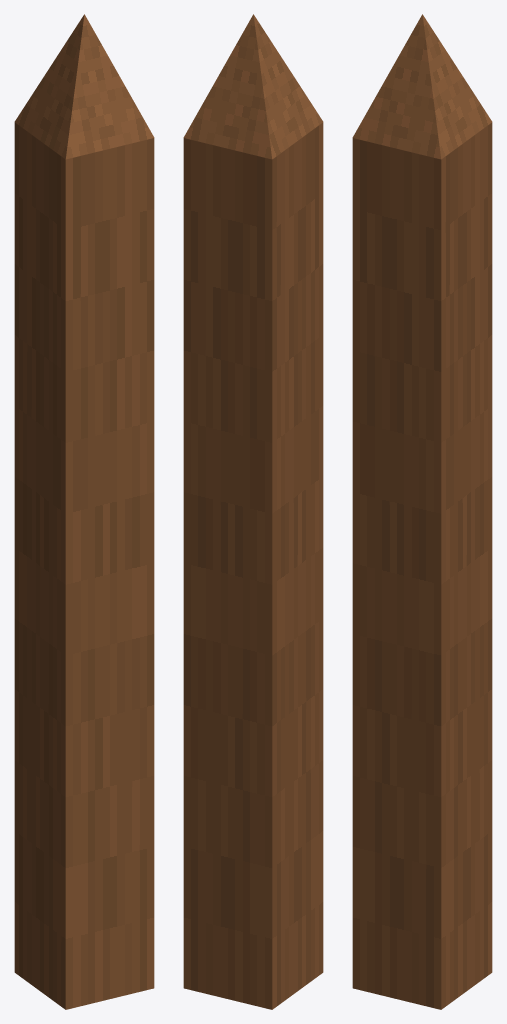
Rendered from fence_post.glb.
3 renders of one model, left to right at view 1: azimuth 30°, elevation 25°; view 2: azimuth 150°, elevation 25°; view 3: azimuth 330°, elevation 25°, orthographic.
Visible parts, largest first — view 1: fence_post; view 2: fence_post; view 3: fence_post.
Boxes of the visible parts, <box> form: fence_post: <box>14,14,154,1009</box>; fence_post: <box>183,14,323,1009</box>; fence_post: <box>352,14,492,1009</box>.
Bounding box in the file's own units: 0.1202 × 1.25 × 0.1202.
1 material, 1 textured.
